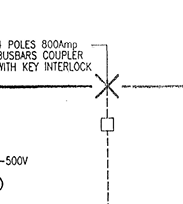Cable Termination Box: (95, 111, 125, 138)
